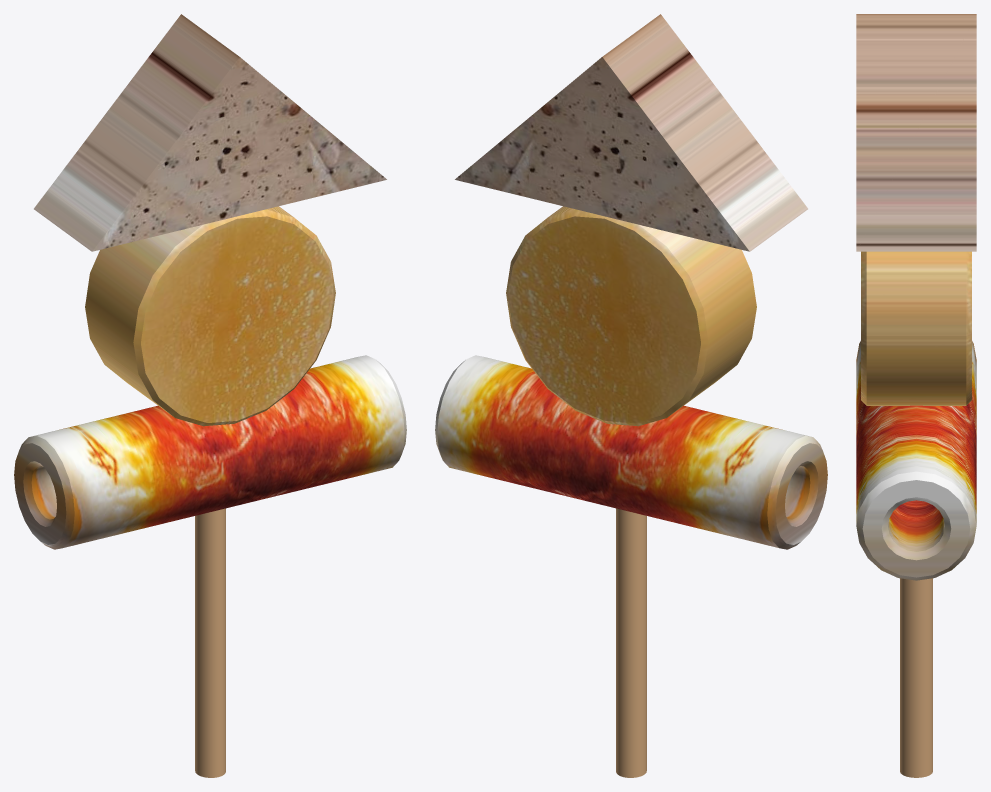
File: ODEN.fbx
The picture shows the model from 3 angles, left to right: view 1: azimuth 30°, elevation 25°; view 2: azimuth 150°, elevation 25°; view 3: azimuth 270°, elevation 25°; orthographic projection. The views are drawn at different scales.
Visible parts, largest first — view 1: polySurface2; view 2: polySurface2; view 3: polySurface2.
Part boxes in pixels (<box>): polySurface2: <box>14,14,406,777</box>; polySurface2: <box>435,14,827,777</box>; polySurface2: <box>856,14,976,777</box>.
Size of the model in its own units: 3.36 by 6.94 by 1.
Materials: 2 (1 with a texture image).
